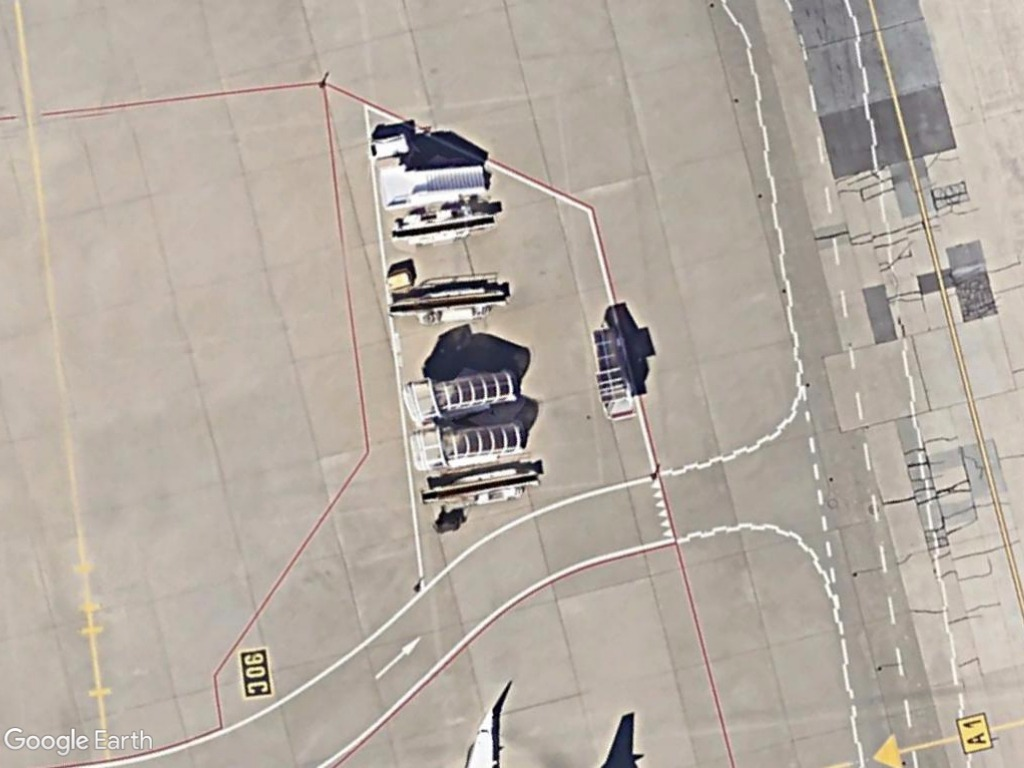stairtruck: (374, 160, 496, 211)
